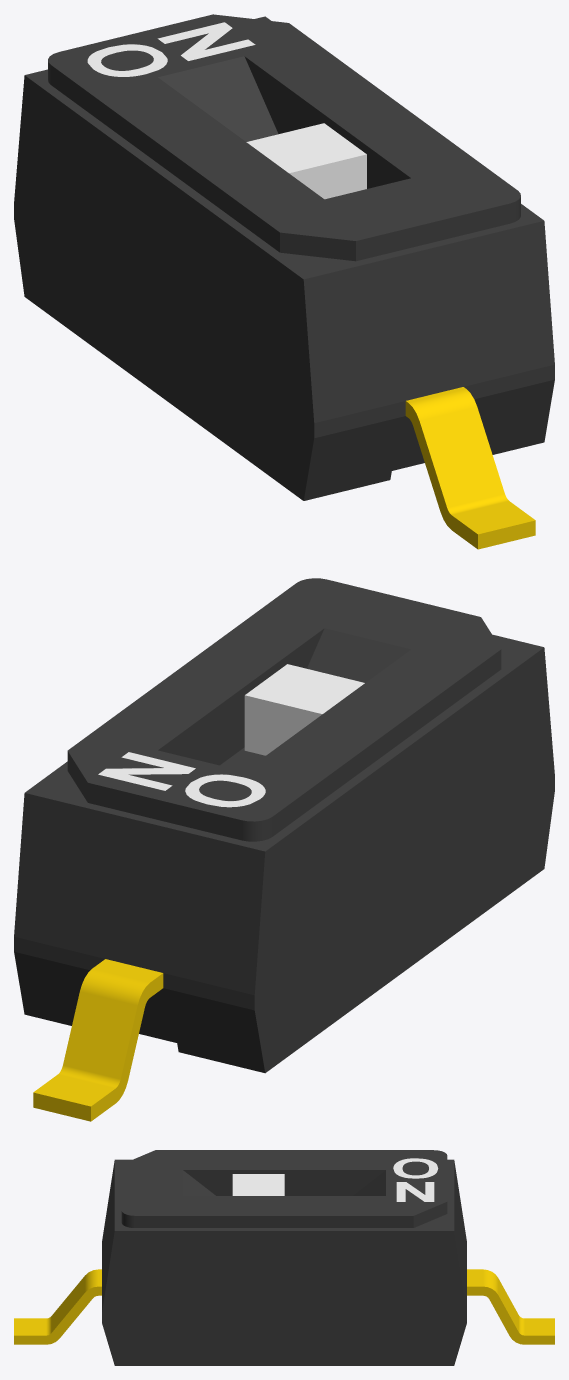
Rendered from switch.fbx.
3 views of the same model, one above another, from view 1: azimuth 30°, elevation 25°; view 2: azimuth 150°, elevation 25°; view 3: azimuth 270°, elevation 25° (orthographic). The views are drawn at different scales.
Visible parts, largest first — view 1: Cut-Extrude3; view 2: Cut-Extrude3; view 3: Cut-Extrude3.
Boxes of the visible parts, x1,y1,x2,y2 form: Cut-Extrude3: (14, 14, 554, 549); Cut-Extrude3: (14, 578, 554, 1121); Cut-Extrude3: (14, 1150, 554, 1365).
Size of the model in its own units: 0.0984 by 0.0984 by 0.315.
